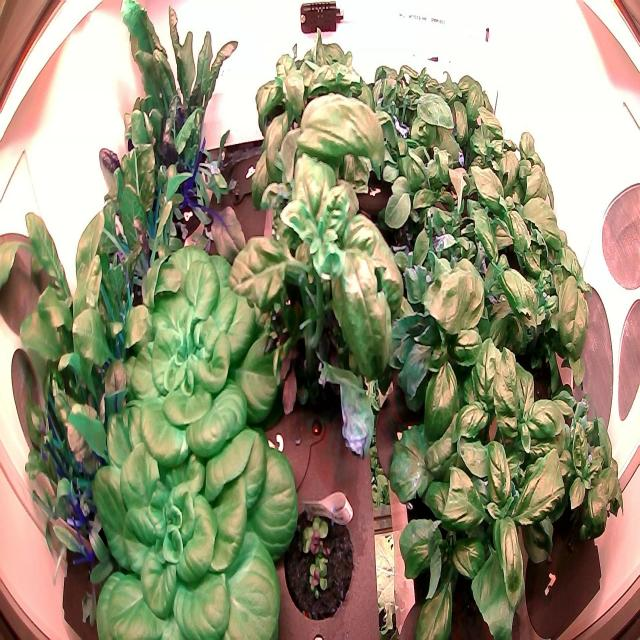empty_pod: (219, 136, 275, 208)
germination: (277, 498, 361, 630)
young: (78, 393, 302, 639), (101, 223, 287, 478)
